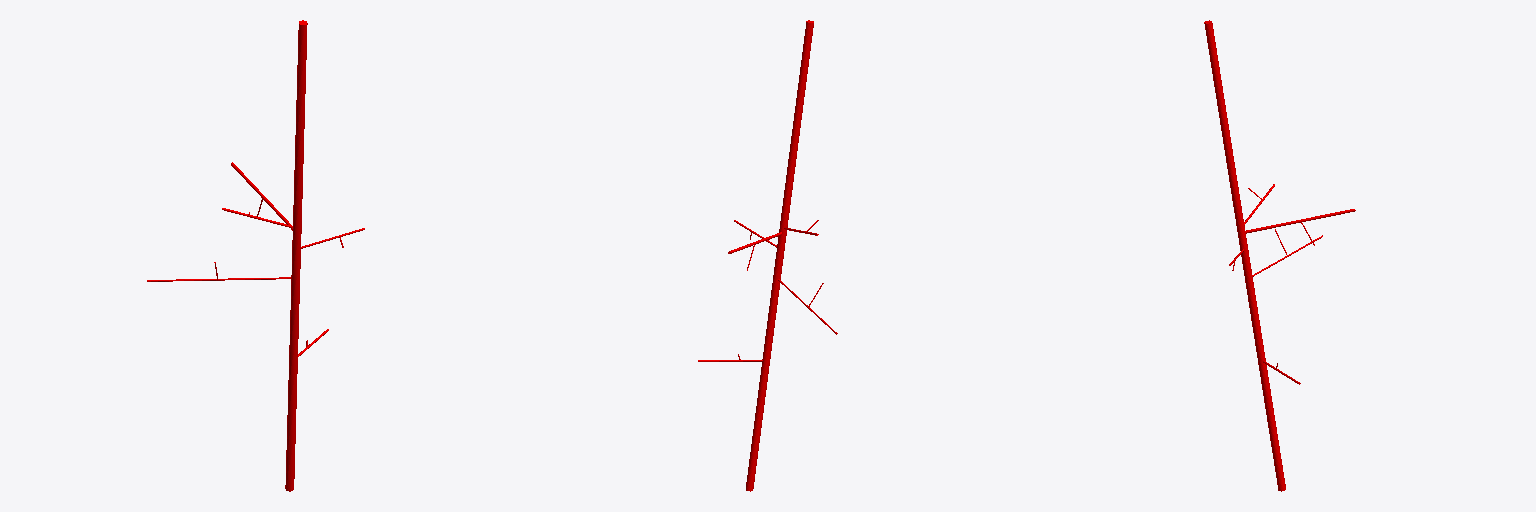
The robot description file, URDF, robot "tree_85.urdf":
<?xml version='1.0' encoding='UTF-8'?>
<robot name="tree_85.urdf">
  <link name="branch_0">
    <inertial>
      <origin xyz="0.0 0.0 0.0" rpy="0.0 -0.0 0.0"/>
      <mass value="0.1"/>
      <inertia ixx="0.001" ixy="0.0" ixz="0.0" iyy="0.001" iyz="0.0" izz="0.001"/>
    </inertial>
    <visual name="branch_0_visual">
      <geometry>
        <cylinder radius="0.06529110099670063" length="8.305443831227464"/>
      </geometry>
      <material name="semantic_material"/>
      <origin xyz="-0.2350740239936733 -0.6043395456164076 4.1017817135077" rpy="-6.938893903907228e-18 0.15679198317372467 -1.9417639203666621"/>
    </visual>
    <collision name="branch_0_collision">
      <geometry>
        <cylinder radius="0.06529110099670063" length="8.305443831227464"/>
      </geometry>
      <origin xyz="-0.2350740239936733 -0.6043395456164076 4.1017817135077" rpy="-6.938893903907228e-18 0.15679198317372467 -1.9417639203666621"/>
    </collision>
  </link>
  <link name="branch_1">
    <inertial>
      <origin xyz="0.0 0.0 0.0" rpy="0.0 -0.0 0.0"/>
      <mass value="0.1"/>
      <inertia ixx="0.001" ixy="0.0" ixz="0.0" iyy="0.001" iyz="0.0" izz="0.001"/>
    </inertial>
    <visual name="branch_1_visual">
      <geometry>
        <cylinder radius="0.01433864020243384" length="2.2060348948011135"/>
      </geometry>
      <material name="semantic_material"/>
      <origin xyz="0.0 0.0 0.0" rpy="0.0 -0.0 0.0"/>
    </visual>
    <collision name="branch_1_collision">
      <geometry>
        <cylinder radius="0.01433864020243384" length="2.2060348948011135"/>
      </geometry>
      <origin xyz="0.0 0.0 0.0" rpy="0.0 -0.0 0.0"/>
    </collision>
  </link>
  <link name="branch_2">
    <inertial>
      <origin xyz="0.0 0.0 0.0" rpy="0.0 -0.0 0.0"/>
      <mass value="0.1"/>
      <inertia ixx="0.001" ixy="0.0" ixz="0.0" iyy="0.001" iyz="0.0" izz="0.001"/>
    </inertial>
    <visual name="branch_2_visual">
      <geometry>
        <cylinder radius="0.01" length="0.4808447872049788"/>
      </geometry>
      <material name="semantic_material"/>
      <origin xyz="0.0 0.0 0.0" rpy="0.0 -0.0 0.0"/>
    </visual>
    <collision name="branch_2_collision">
      <geometry>
        <cylinder radius="0.01" length="0.4808447872049788"/>
      </geometry>
      <origin xyz="0.0 0.0 0.0" rpy="0.0 -0.0 0.0"/>
    </collision>
  </link>
  <link name="branch_3">
    <inertial>
      <origin xyz="0.0 0.0 0.0" rpy="0.0 -0.0 0.0"/>
      <mass value="0.1"/>
      <inertia ixx="0.001" ixy="0.0" ixz="0.0" iyy="0.001" iyz="0.0" izz="0.001"/>
    </inertial>
    <visual name="branch_3_visual">
      <geometry>
        <cylinder radius="0.02473384752186928" length="1.8965904357385373"/>
      </geometry>
      <material name="semantic_material"/>
      <origin xyz="0.0 0.0 0.0" rpy="0.0 -0.0 0.0"/>
    </visual>
    <collision name="branch_3_collision">
      <geometry>
        <cylinder radius="0.02473384752186928" length="1.8965904357385373"/>
      </geometry>
      <origin xyz="0.0 0.0 0.0" rpy="0.0 -0.0 0.0"/>
    </collision>
  </link>
  <link name="branch_4">
    <inertial>
      <origin xyz="0.0 0.0 0.0" rpy="0.0 -0.0 0.0"/>
      <mass value="0.1"/>
      <inertia ixx="0.001" ixy="0.0" ixz="0.0" iyy="0.001" iyz="0.0" izz="0.001"/>
    </inertial>
    <visual name="branch_4_visual">
      <geometry>
        <cylinder radius="0.01" length="0.4840634880869292"/>
      </geometry>
      <material name="semantic_material"/>
      <origin xyz="0.0 0.0 0.0" rpy="0.0 -0.0 0.0"/>
    </visual>
    <collision name="branch_4_collision">
      <geometry>
        <cylinder radius="0.01" length="0.4840634880869292"/>
      </geometry>
      <origin xyz="0.0 0.0 0.0" rpy="0.0 -0.0 0.0"/>
    </collision>
  </link>
  <link name="branch_5">
    <inertial>
      <origin xyz="0.0 0.0 0.0" rpy="0.0 -0.0 0.0"/>
      <mass value="0.1"/>
      <inertia ixx="0.001" ixy="0.0" ixz="0.0" iyy="0.001" iyz="0.0" izz="0.001"/>
    </inertial>
    <visual name="branch_5_visual">
      <geometry>
        <cylinder radius="0.018134852811955638" length="1.1295386441866235"/>
      </geometry>
      <material name="semantic_material"/>
      <origin xyz="0.0 0.0 0.0" rpy="0.0 -0.0 0.0"/>
    </visual>
    <collision name="branch_5_collision">
      <geometry>
        <cylinder radius="0.018134852811955638" length="1.1295386441866235"/>
      </geometry>
      <origin xyz="0.0 0.0 0.0" rpy="0.0 -0.0 0.0"/>
    </collision>
  </link>
  <link name="branch_6">
    <inertial>
      <origin xyz="0.0 0.0 0.0" rpy="0.0 -0.0 0.0"/>
      <mass value="0.1"/>
      <inertia ixx="0.001" ixy="0.0" ixz="0.0" iyy="0.001" iyz="0.0" izz="0.001"/>
    </inertial>
    <visual name="branch_6_visual">
      <geometry>
        <cylinder radius="0.01" length="0.13203639286657504"/>
      </geometry>
      <material name="semantic_material"/>
      <origin xyz="0.0 0.0 0.0" rpy="0.0 -0.0 0.0"/>
    </visual>
    <collision name="branch_6_collision">
      <geometry>
        <cylinder radius="0.01" length="0.13203639286657504"/>
      </geometry>
      <origin xyz="0.0 0.0 0.0" rpy="0.0 -0.0 0.0"/>
    </collision>
  </link>
  <link name="branch_7">
    <inertial>
      <origin xyz="0.0 0.0 0.0" rpy="0.0 -0.0 0.0"/>
      <mass value="0.1"/>
      <inertia ixx="0.001" ixy="0.0" ixz="0.0" iyy="0.001" iyz="0.0" izz="0.001"/>
    </inertial>
    <visual name="branch_7_visual">
      <geometry>
        <cylinder radius="0.01901002297422116" length="1.1588160827094054"/>
      </geometry>
      <material name="semantic_material"/>
      <origin xyz="0.0 0.0 0.0" rpy="0.0 -0.0 0.0"/>
    </visual>
    <collision name="branch_7_collision">
      <geometry>
        <cylinder radius="0.01901002297422116" length="1.1588160827094054"/>
      </geometry>
      <origin xyz="0.0 0.0 0.0" rpy="0.0 -0.0 0.0"/>
    </collision>
  </link>
  <link name="branch_8">
    <inertial>
      <origin xyz="0.0 0.0 0.0" rpy="0.0 -0.0 0.0"/>
      <mass value="0.1"/>
      <inertia ixx="0.001" ixy="0.0" ixz="0.0" iyy="0.001" iyz="0.0" izz="0.001"/>
    </inertial>
    <visual name="branch_8_visual">
      <geometry>
        <cylinder radius="0.01" length="0.30445385214448684"/>
      </geometry>
      <material name="semantic_material"/>
      <origin xyz="0.0 0.0 0.0" rpy="0.0 -0.0 0.0"/>
    </visual>
    <collision name="branch_8_collision">
      <geometry>
        <cylinder radius="0.01" length="0.30445385214448684"/>
      </geometry>
      <origin xyz="0.0 0.0 0.0" rpy="0.0 -0.0 0.0"/>
    </collision>
  </link>
  <link name="branch_9">
    <inertial>
      <origin xyz="0.0 0.0 0.0" rpy="0.0 -0.0 0.0"/>
      <mass value="0.1"/>
      <inertia ixx="0.001" ixy="0.0" ixz="0.0" iyy="0.001" iyz="0.0" izz="0.001"/>
    </inertial>
    <visual name="branch_9_visual">
      <geometry>
        <cylinder radius="0.0164054041790206" length="1.0680623730494798"/>
      </geometry>
      <material name="semantic_material"/>
      <origin xyz="0.0 0.0 0.0" rpy="0.0 -0.0 0.0"/>
    </visual>
    <collision name="branch_9_collision">
      <geometry>
        <cylinder radius="0.0164054041790206" length="1.0680623730494798"/>
      </geometry>
      <origin xyz="0.0 0.0 0.0" rpy="0.0 -0.0 0.0"/>
    </collision>
  </link>
  <link name="branch_10">
    <inertial>
      <origin xyz="0.0 0.0 0.0" rpy="0.0 -0.0 0.0"/>
      <mass value="0.1"/>
      <inertia ixx="0.001" ixy="0.0" ixz="0.0" iyy="0.001" iyz="0.0" izz="0.001"/>
    </inertial>
    <visual name="branch_10_visual">
      <geometry>
        <cylinder radius="0.01" length="0.1913693375017325"/>
      </geometry>
      <material name="semantic_material"/>
      <origin xyz="0.0 0.0 0.0" rpy="0.0 -0.0 0.0"/>
    </visual>
    <collision name="branch_10_collision">
      <geometry>
        <cylinder radius="0.01" length="0.1913693375017325"/>
      </geometry>
      <origin xyz="0.0 0.0 0.0" rpy="0.0 -0.0 0.0"/>
    </collision>
  </link>
  <joint name="joint_0_1" type="fixed">
    <parent link="branch_0"/>
    <child link="branch_1"/>
    <axis xyz="1. 0. 0."/>
    <origin xyz="-1.134902857781799 0.05604045649034812 3.659962896932992" rpy="-1.8696384587976753 1.4099158654136363 0.6965230971599549"/>
  </joint>
  <joint name="joint_0_3" type="fixed">
    <parent link="branch_0"/>
    <child link="branch_3"/>
    <axis xyz="1. 0. 0."/>
    <origin xyz="-0.2793216296803342 0.2634916723521467 4.702569496791736" rpy="-0.2746059036992625 1.3525299494610747 1.3126577660086038"/>
  </joint>
  <joint name="joint_0_5" type="fixed">
    <parent link="branch_0"/>
    <child link="branch_5"/>
    <axis xyz="1. 0. 0."/>
    <origin xyz="0.3423440997146986 -0.025036746582933728 2.279703000279192" rpy="1.3749258288048392 1.4776128413973757 1.9555044259157486"/>
  </joint>
  <joint name="joint_0_7" type="fixed">
    <parent link="branch_0"/>
    <child link="branch_7"/>
    <axis xyz="1. 0. 0."/>
    <origin xyz="-0.747519399486604 -0.4031701125169833 4.750638746793164" rpy="-0.5002049681130004 1.2450390679669163 2.105593631536316"/>
  </joint>
  <joint name="joint_0_9" type="fixed">
    <parent link="branch_0"/>
    <child link="branch_9"/>
    <axis xyz="1. 0. 0."/>
    <origin xyz="0.2702306201311355 -0.7402679338379724 4.31530426738099" rpy="0.7168169333884911 1.3343379341822423 0.5036883498543328"/>
  </joint>
  <joint name="joint_1_2" type="fixed">
    <parent link="branch_0"/>
    <child link="branch_2"/>
    <axis xyz="1. 0. 0."/>
    <origin xyz="-1.2624966145581074 -0.0172351421074626 3.8584907742273225" rpy="0.5776420693432683 -0.06210976801125511 -0.5888092432456656"/>
  </joint>
  <joint name="joint_3_4" type="fixed">
    <parent link="branch_0"/>
    <child link="branch_4"/>
    <axis xyz="1. 0. 0."/>
    <origin xyz="-0.2673624889716388 0.41189642178164226 4.495898682164734" rpy="-3.06925970458615 0.4756026387372189 -1.52855274370445"/>
  </joint>
  <joint name="joint_5_6" type="fixed">
    <parent link="branch_0"/>
    <child link="branch_6"/>
    <axis xyz="1. 0. 0."/>
    <origin xyz="0.24436880367646377 -0.08468234291710013 2.3407965228045233" rpy="0.061913782124660505 -0.2708002700710039 -2.579505930339263"/>
  </joint>
  <joint name="joint_7_8" type="fixed">
    <parent link="branch_0"/>
    <child link="branch_8"/>
    <axis xyz="1. 0. 0."/>
    <origin xyz="-0.9485053907832925 -0.43694221997840615 4.8814594853269915" rpy="0.9850165963833661 0.23185152493430178 -0.596930279035912"/>
  </joint>
  <joint name="joint_9_10" type="fixed">
    <parent link="branch_0"/>
    <child link="branch_10"/>
    <axis xyz="1. 0. 0."/>
    <origin xyz="0.42615812321146407 -0.7883698231287406 4.248454230895502" rpy="-3.015261868898189 0.2698266065072769 2.926350175392047"/>
  </joint>
  <material name="semantic_material">
    <color rgba="1. 0. 0. 1."/>
  </material>
</robot>

--- Render facts (derived) ---
Views: 3 orthographic renders of the robot side by side, from view 1: azimuth 30°, elevation 25°; view 2: azimuth 150°, elevation 25°; view 3: azimuth 270°, elevation 25°.
Model tree_85.urdf with 11 links and 10 joints (10 fixed), rooted at branch_0, posed all joints at 0.
Visible links, largest first — view 1: branch_0; view 2: branch_0; view 3: branch_0.
Link boxes in pixels (x1,y1,x2,y2): branch_0: [285, 20, 307, 491]; branch_0: [746, 20, 813, 491]; branch_0: [1204, 20, 1285, 491].
Bounding box of the posed robot: 2.89 × 2.47 × 8.22 m (x, y, z).
Geometry: primitives only (box / cylinder / sphere), no mesh files.
